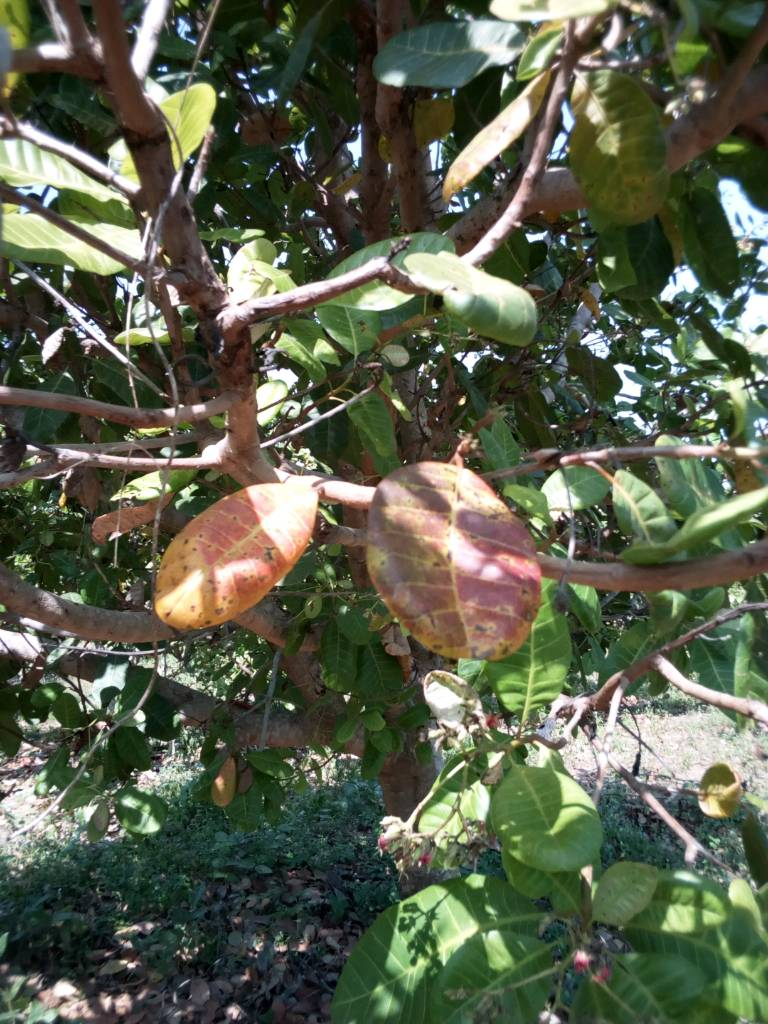Carence minérale: (360, 455, 577, 661), (136, 464, 340, 647)
